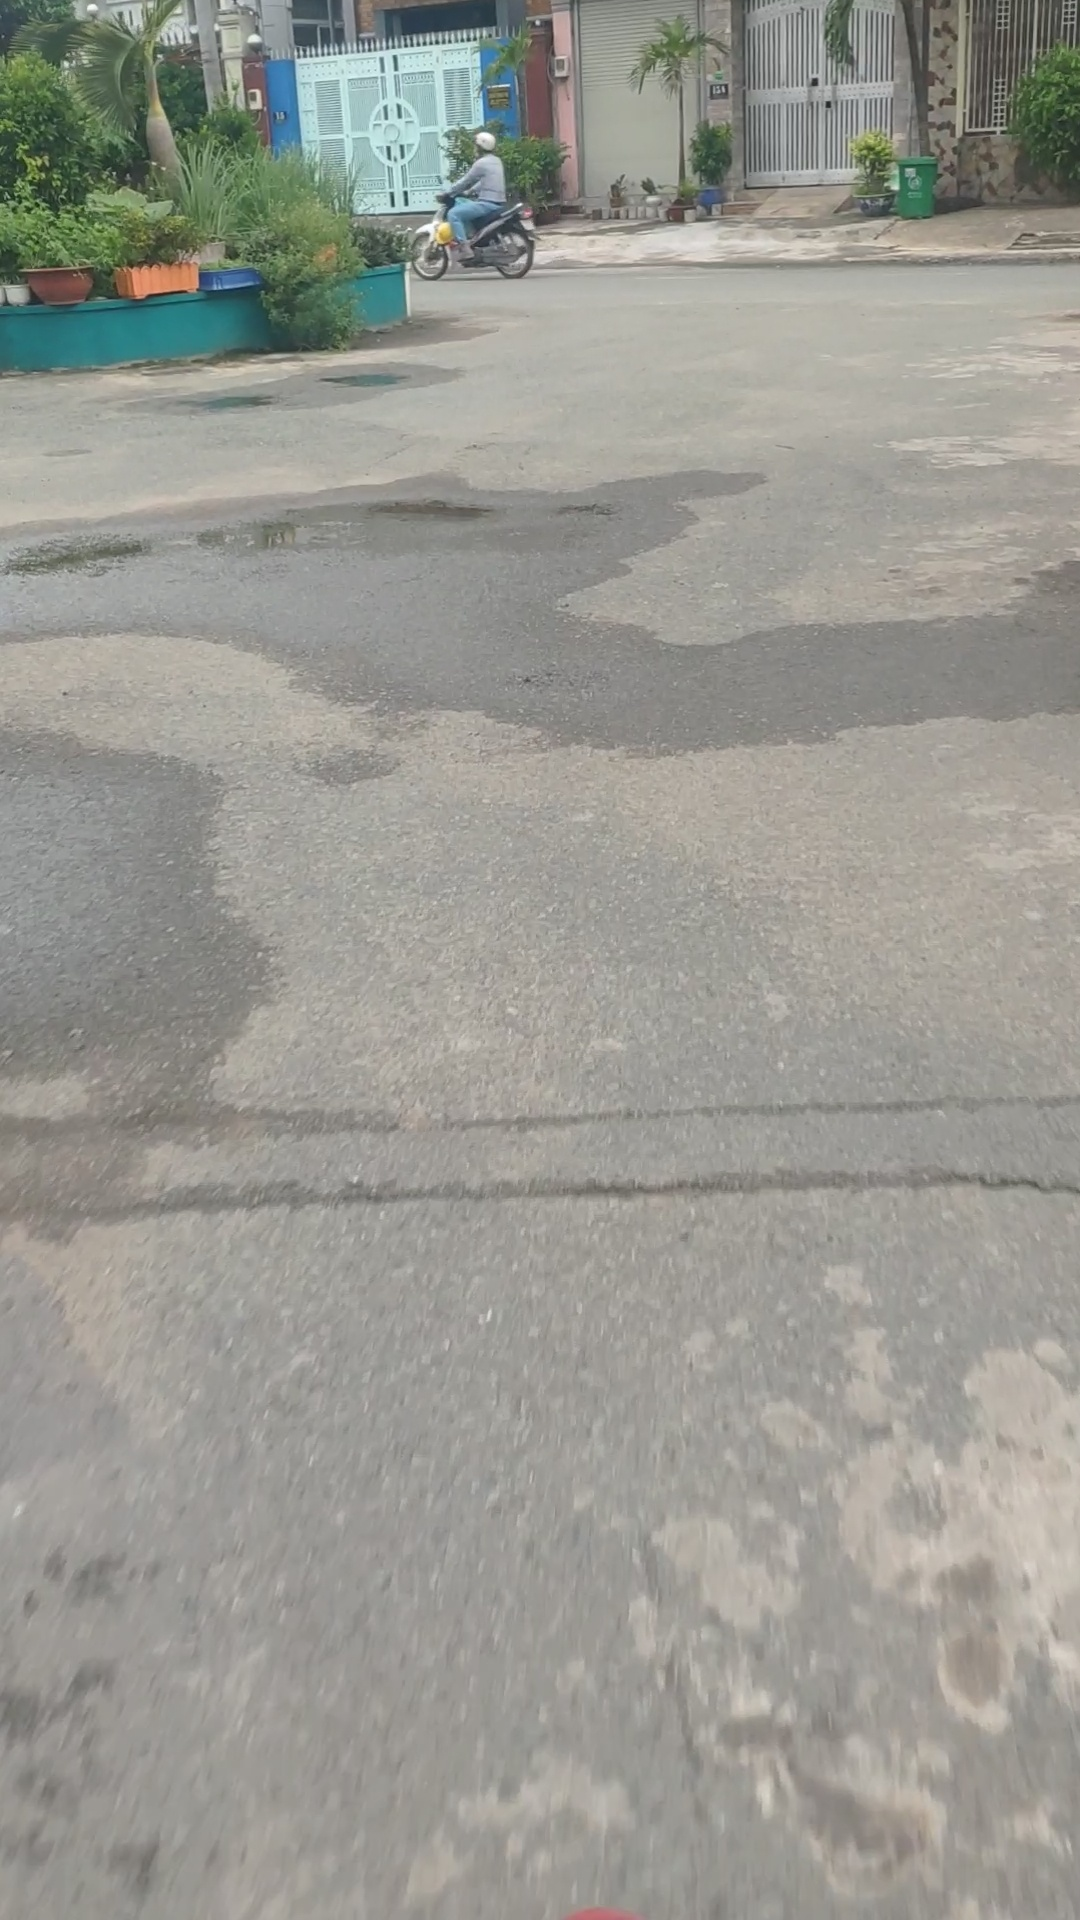hole: (193, 480, 520, 572), (1, 529, 177, 588), (167, 386, 286, 421), (315, 365, 419, 394)
